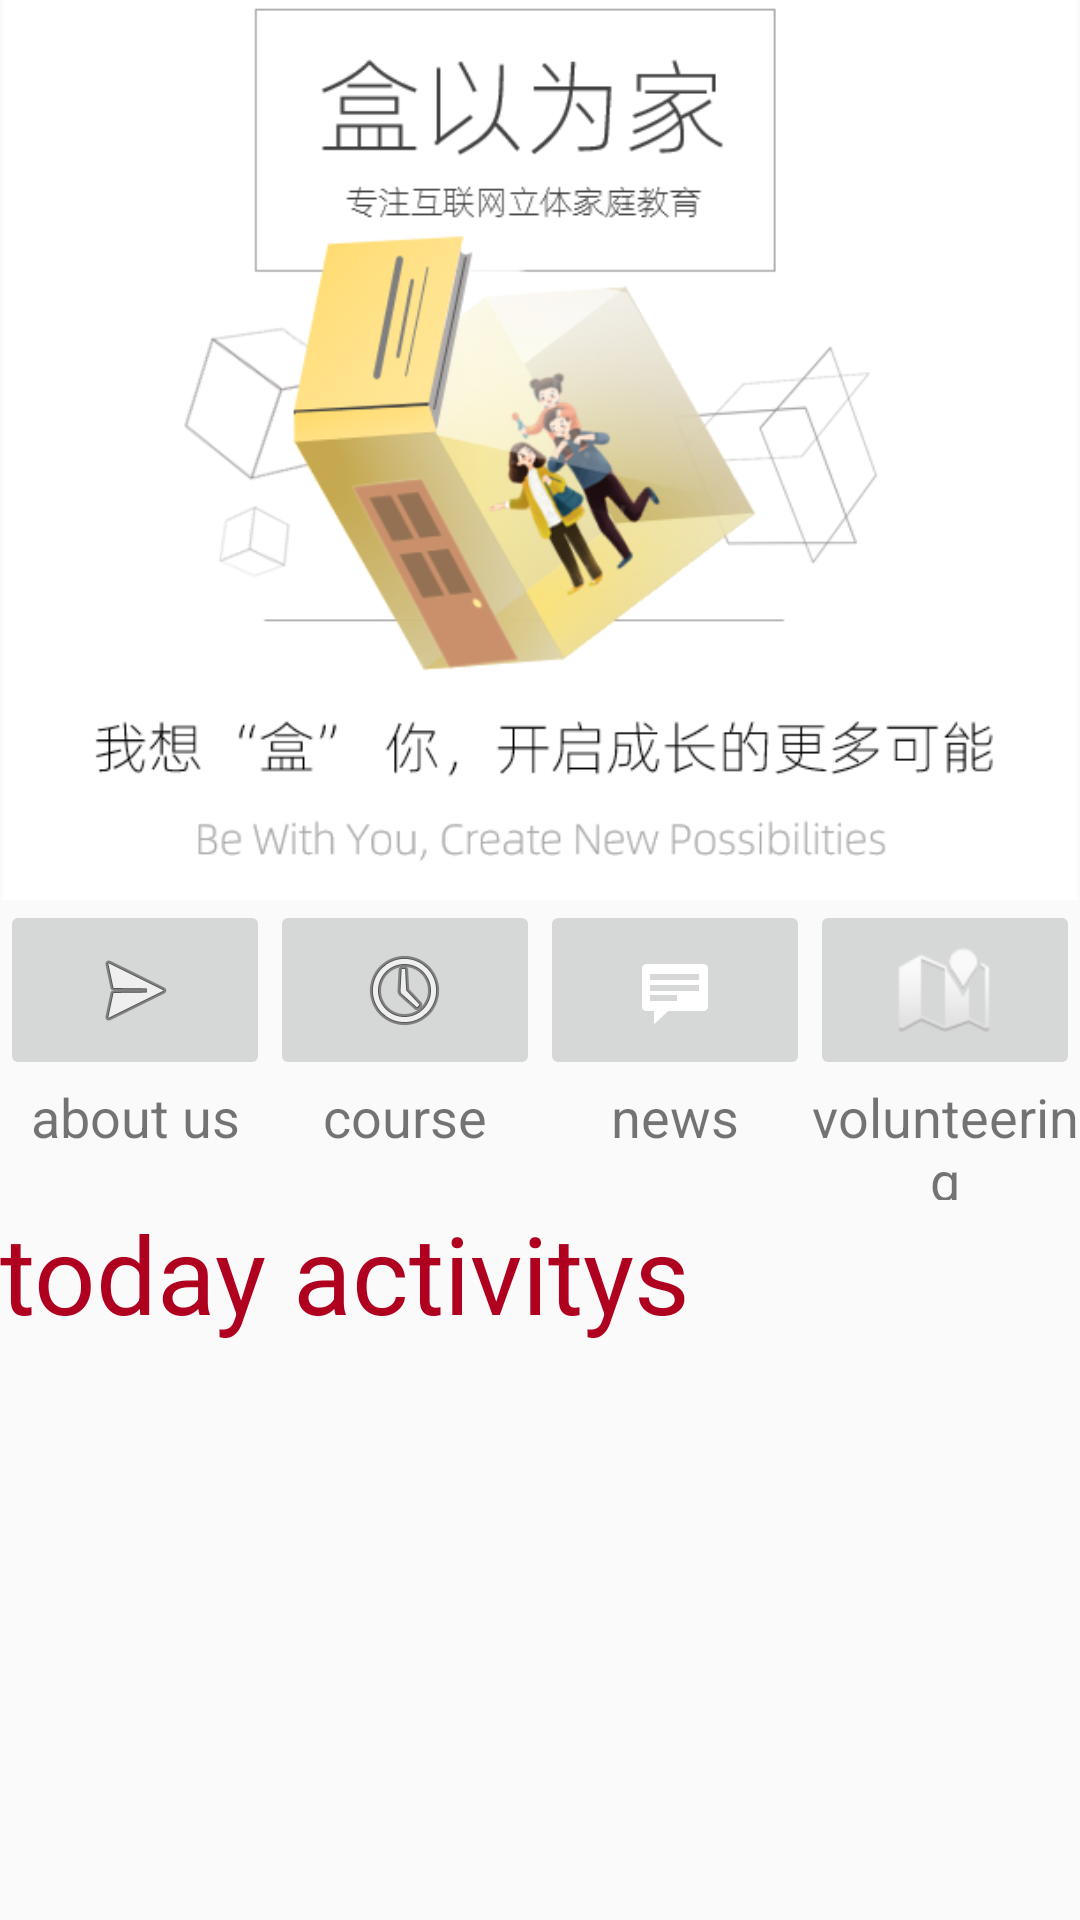

Locate icon controls on the screen. Image size 1080*1920, boxes as (x1, y1, x2, y2).
chat: (552, 918, 798, 1062)
map: (822, 918, 1068, 1062)
recent history: (282, 918, 528, 1062)
send: (12, 918, 258, 1062)
